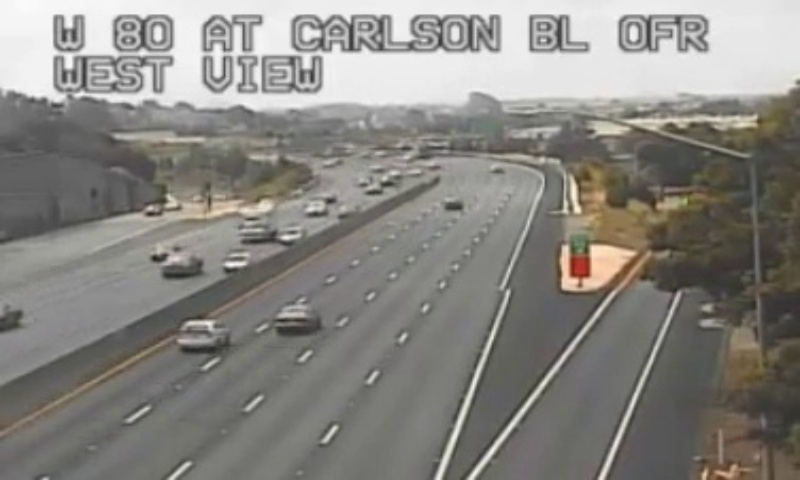car: (177, 319, 228, 350), (274, 304, 319, 333)
